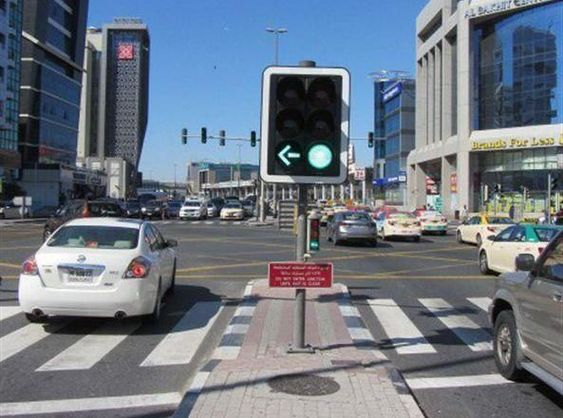car: (12, 216, 186, 328), (487, 223, 563, 406), (36, 200, 130, 248), (469, 224, 563, 272), (322, 208, 384, 252), (457, 213, 523, 248), (373, 207, 423, 245), (410, 207, 449, 239), (179, 195, 206, 223), (142, 199, 170, 221), (219, 202, 245, 224), (160, 196, 179, 219), (196, 201, 217, 220)
